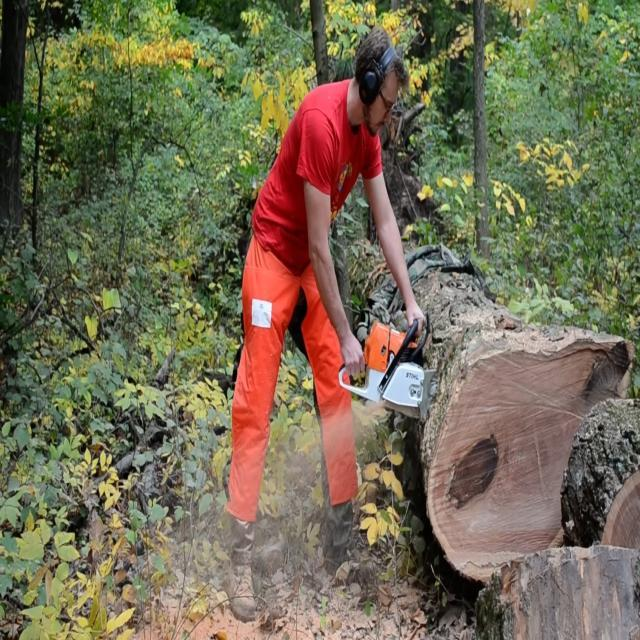Chainsaw: (327, 300, 455, 448)
